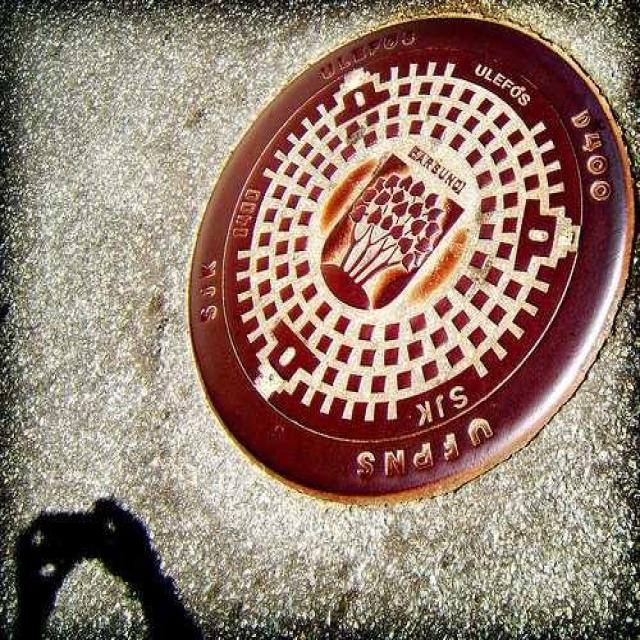manhole: (190, 17, 634, 500)
